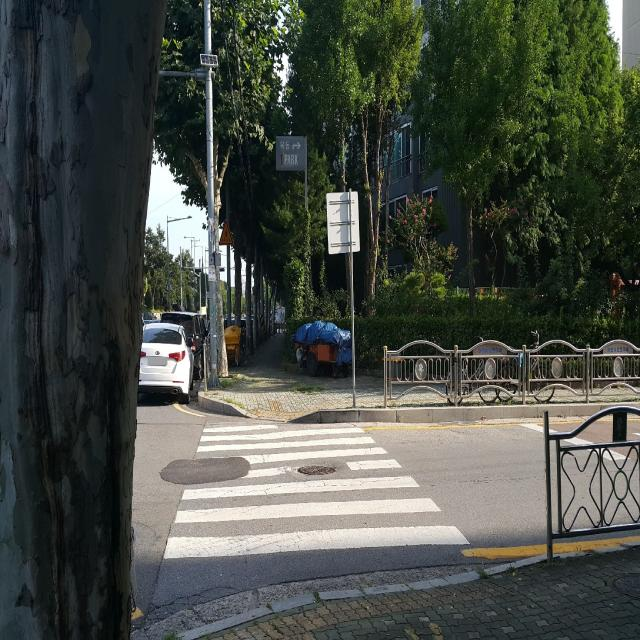횡단보도: (163, 422, 472, 562)
